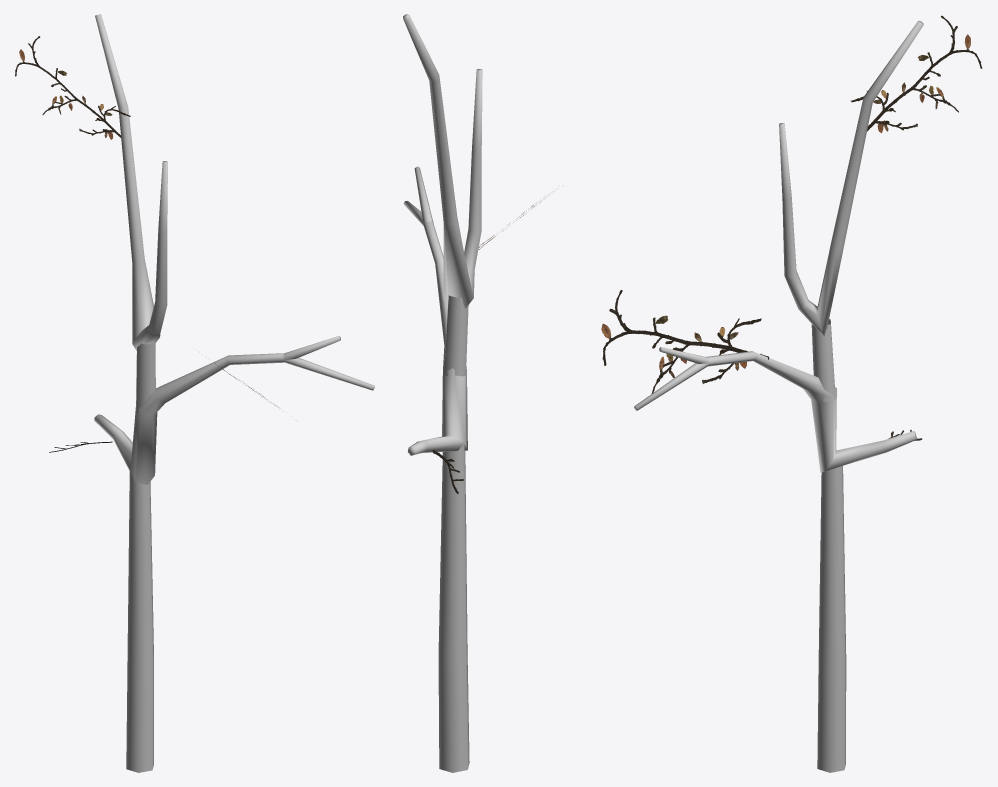
The model's file is SM_Tree_BeechBare_00.fbx.
3 renders of one model, left to right at view 1: azimuth 30°, elevation 25°; view 2: azimuth 150°, elevation 25°; view 3: azimuth 270°, elevation 25°, orthographic. The views are drawn at different scales.
Parts seen in each view (by area): view 1: SM_Tree_BeechBare_00; view 2: SM_Tree_BeechBare_00; view 3: SM_Tree_BeechBare_00.
Boxes of the visible parts, <box> form: SM_Tree_BeechBare_00: <box>15,14,374,772</box>; SM_Tree_BeechBare_00: <box>403,14,546,772</box>; SM_Tree_BeechBare_00: <box>601,15,982,772</box>.
Bounding box in the file's own units: 329 × 1156 × 545.
